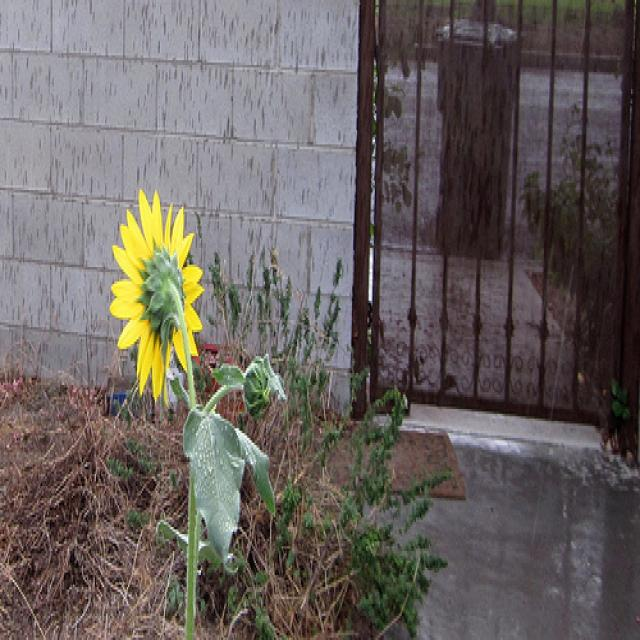sunflower: (104, 191, 210, 395)
